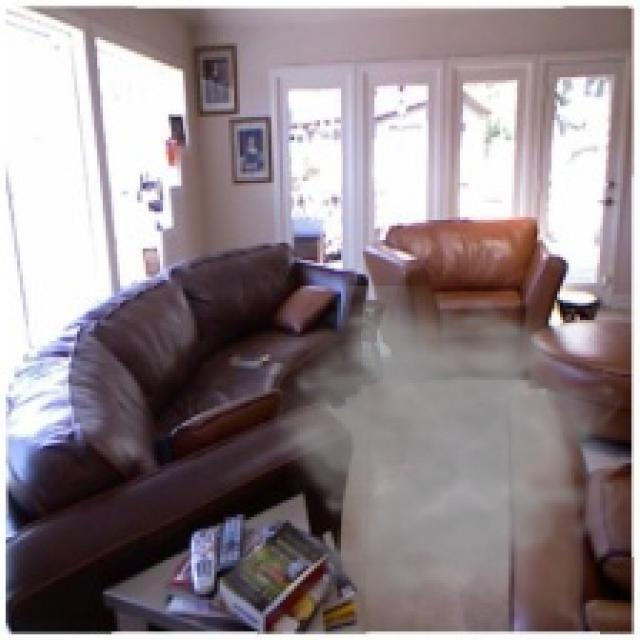smoke: (266, 286, 628, 631)
